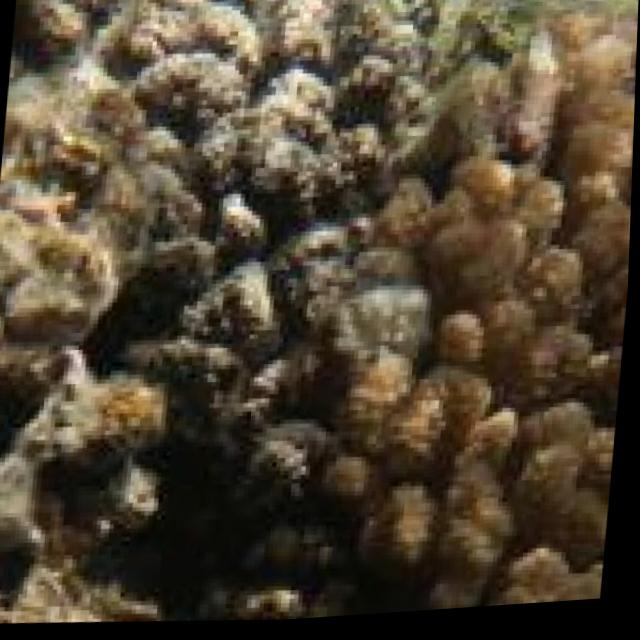Dead Coral: (79, 41, 387, 602)
Healthy Coral: (353, 2, 639, 621)
